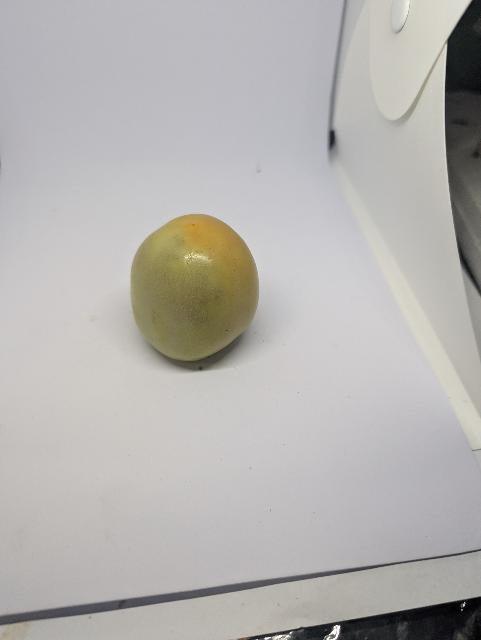breaker: (126, 215, 263, 365)
